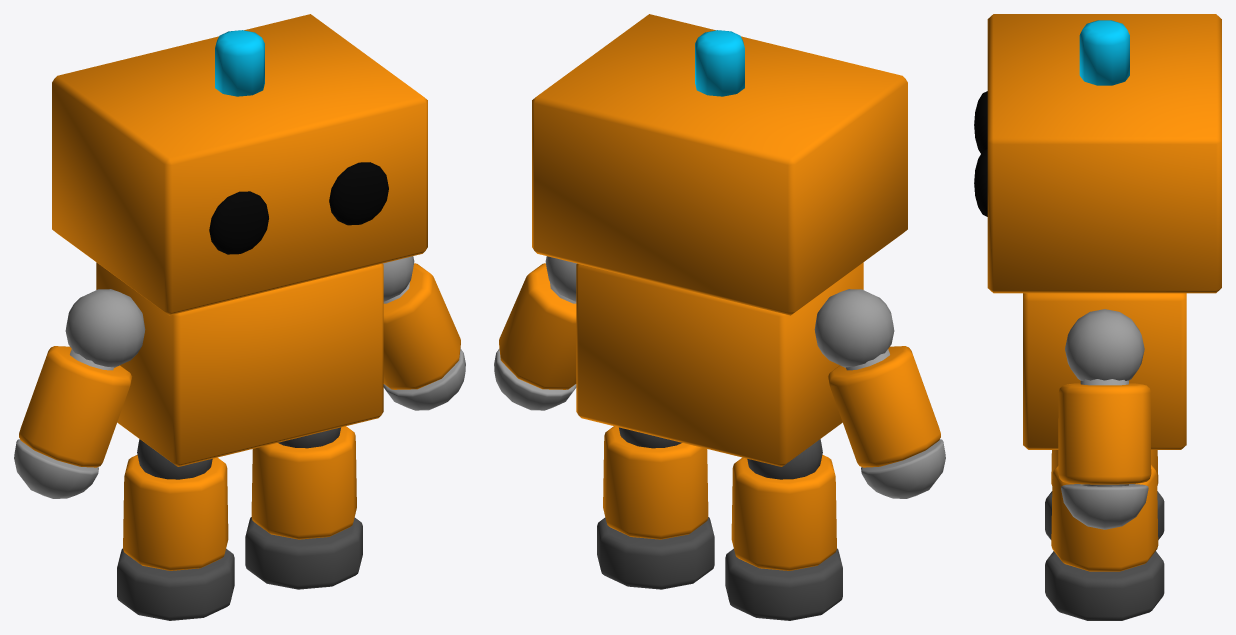
The model's file is robot.glb.
3 views of the same model, side by side, from view 1: azimuth 30°, elevation 25°; view 2: azimuth 150°, elevation 25°; view 3: azimuth 270°, elevation 25° (orthographic).
Parts seen in each view (by area): view 1: ROBOT; view 2: ROBOT; view 3: ROBOT.
Boxes of the visible parts, <box> form: ROBOT: <box>14,14,465,620</box>; ROBOT: <box>494,14,945,620</box>; ROBOT: <box>974,14,1221,620</box>.
Bounding box in the file's own units: 10.79 × 12.77 × 5.29.
